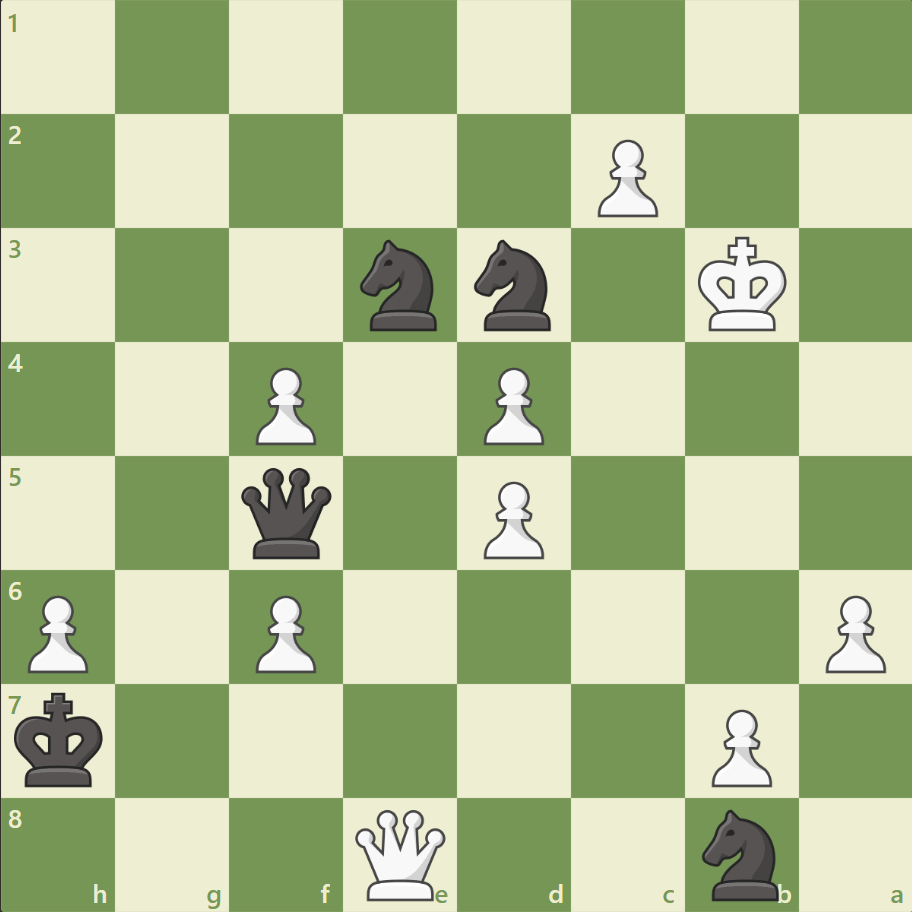K: (692, 231, 792, 339)
P: (701, 700, 776, 791), (247, 586, 322, 677), (20, 586, 95, 677), (474, 473, 549, 564), (474, 359, 549, 450), (247, 359, 322, 450), (815, 586, 889, 677), (588, 132, 662, 223)
Q: (351, 804, 450, 903)
k: (11, 685, 111, 793)
n: (351, 234, 449, 337), (465, 234, 562, 337), (692, 802, 789, 904)
q: (237, 463, 336, 562)
